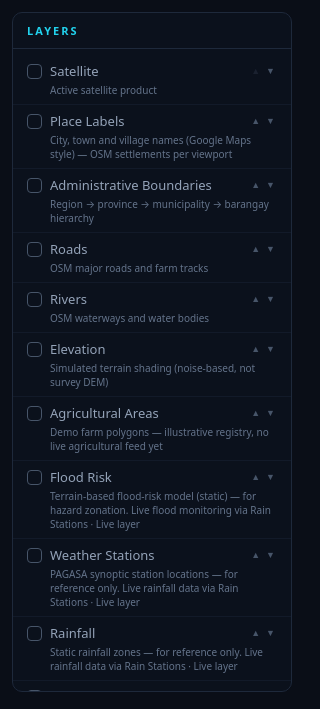
LayerPanel › toggling a layer checks its box and reveals the opacity slider
expect the text "Opacity" is not shown: met
Click the checkbox labelled "Satellite": (63, 71) [27,62,98,80]
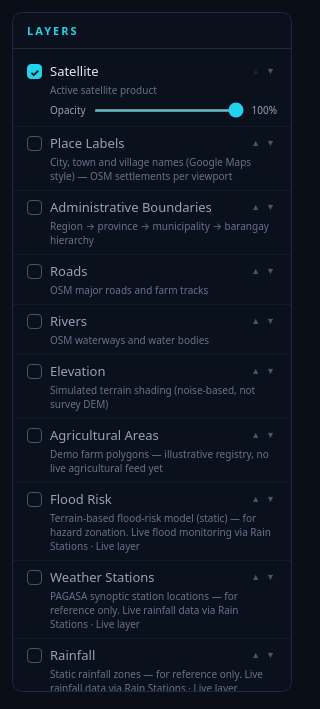
expect the checkbox labelled "Satellite" is checked: met, box [27,62,98,80]
expect the slider is shown: met, box [94,108,244,112]
